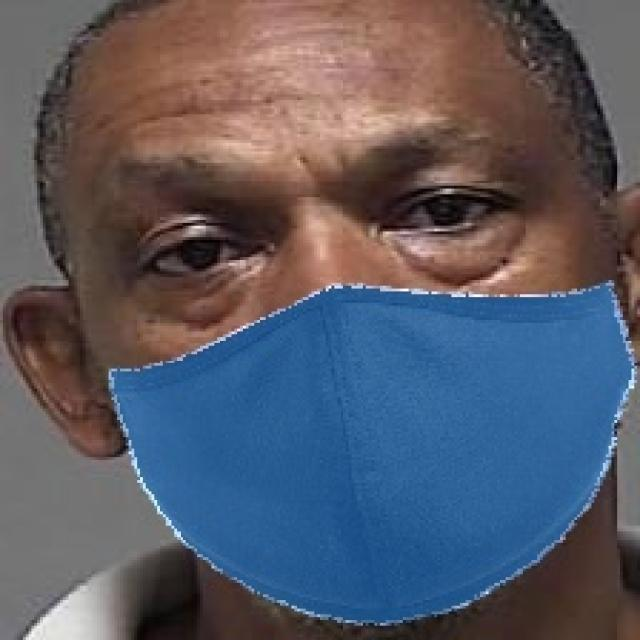mask: (95, 337, 640, 625)
